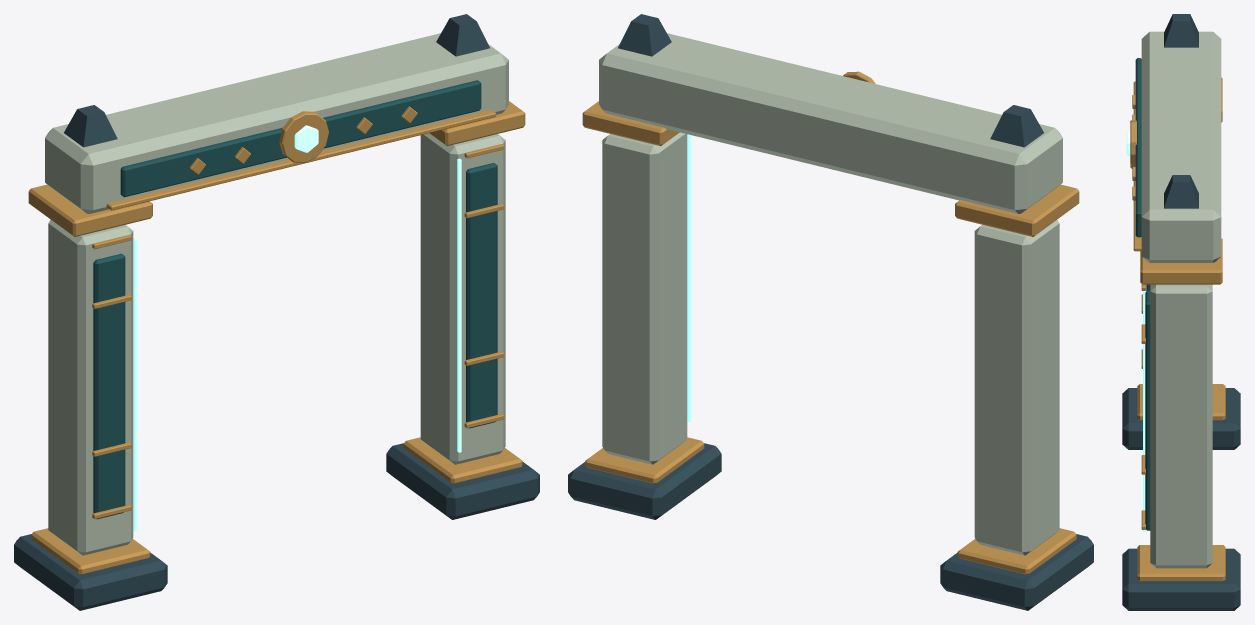
The model's file is arch.glb.
3 views of the same model, side by side, from view 1: azimuth 30°, elevation 25°; view 2: azimuth 150°, elevation 25°; view 3: azimuth 270°, elevation 25° (orthographic). The views are drawn at different scales.
Parts seen in each view (by area): view 1: Stone top lintel, Pale carved upright -1, Pale carved upright 1, Teal lintel face, Teal upright front panel -1, Teal upright front panel 1, Gate stone foundation -1, Gate stone foundation 1, Brass lintel underline, Bracket shoulder -1, Brass foot inset 1, Brass foot inset -1 (+6 smaller); view 2: Stone top lintel, Pale carved upright -1, Pale carved upright 1, Gate stone foundation -1, Gate stone foundation 1, Bracket shoulder -1, Brass foot inset 1, Brass foot inset -1, Bracket shoulder 1, Stone crown 1, Stone crown -1, Inner mint navigation strip 1; view 3: Pale carved upright 1, Stone top lintel, Gate stone foundation 1, Gate stone foundation -1, Bracket shoulder 1, Brass foot inset 1, Teal upright front panel 1, Teal lintel face, Stone crown 1, Stone crown -1, Brass foot inset -1, Inner mint navigation strip 1 (+2 smaller).
Boxes of the visible parts, x1=… form: Stone top lintel: x1=45, y1=33, x2=508, y2=213; Pale carved upright -1: x1=48, y1=220, x2=133, y2=555; Pale carved upright 1: x1=420, y1=133, x2=505, y2=464; Teal lintel face: x1=120, y1=80, x2=481, y2=197; Teal upright front panel -1: x1=93, y1=253, x2=125, y2=519; Teal upright front panel 1: x1=466, y1=163, x2=497, y2=428; Gate stone foundation -1: x1=14, y1=534, x2=167, y2=610; Gate stone foundation 1: x1=386, y1=443, x2=539, y2=519; Brass lintel underline: x1=106, y1=110, x2=496, y2=210; Bracket shoulder -1: x1=28, y1=184, x2=152, y2=236; Brass foot inset 1: x1=403, y1=437, x2=522, y2=483; Brass foot inset -1: x1=31, y1=528, x2=150, y2=574; Stone top lintel: x1=599, y1=33, x2=1062, y2=213; Pale carved upright -1: x1=974, y1=220, x2=1059, y2=555; Pale carved upright 1: x1=602, y1=132, x2=687, y2=464; Gate stone foundation -1: x1=940, y1=534, x2=1093, y2=610; Gate stone foundation 1: x1=568, y1=443, x2=721, y2=519; Bracket shoulder -1: x1=955, y1=184, x2=1079, y2=236; Brass foot inset 1: x1=585, y1=437, x2=704, y2=483; Brass foot inset -1: x1=957, y1=528, x2=1076, y2=574; Bracket shoulder 1: x1=582, y1=101, x2=679, y2=146; Stone crown 1: x1=618, y1=14, x2=671, y2=56; Stone crown -1: x1=990, y1=105, x2=1043, y2=147; Inner mint navigation strip 1: x1=687, y1=134, x2=691, y2=422; Pale carved upright 1: x1=1150, y1=284, x2=1212, y2=568; Stone top lintel: x1=1141, y1=31, x2=1221, y2=262; Gate stone foundation 1: x1=1122, y1=548, x2=1240, y2=610; Gate stone foundation -1: x1=1122, y1=388, x2=1240, y2=449; Bracket shoulder 1: x1=1140, y1=238, x2=1222, y2=284; Brass foot inset 1: x1=1137, y1=545, x2=1225, y2=581; Teal upright front panel 1: x1=1145, y1=290, x2=1150, y2=530; Teal lintel face: x1=1135, y1=58, x2=1141, y2=237; Stone crown 1: x1=1164, y1=175, x2=1198, y2=208; Stone crown -1: x1=1164, y1=14, x2=1198, y2=47; Brass foot inset -1: x1=1137, y1=384, x2=1225, y2=420; Inner mint navigation strip 1: x1=1143, y1=285, x2=1146, y2=532.
Bounding box in the file's own units: 3.83 × 3.68 × 0.95.
